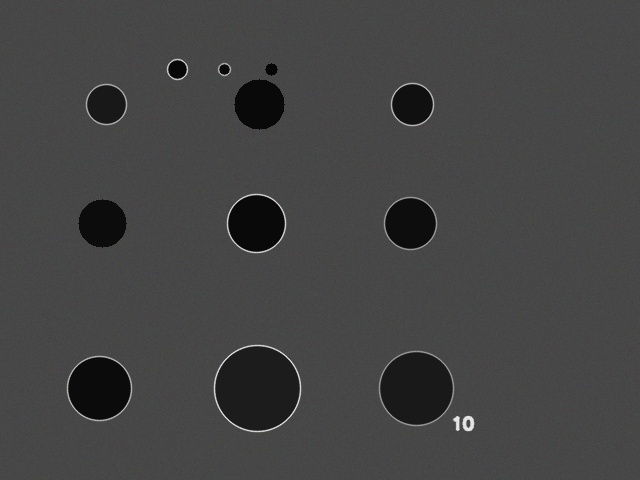hole: (214, 345, 300, 431), (379, 351, 453, 425), (67, 356, 131, 420), (227, 194, 285, 252), (384, 197, 436, 249), (234, 79, 284, 129), (78, 199, 126, 247), (391, 83, 433, 125), (86, 84, 126, 124), (167, 59, 187, 79), (218, 63, 230, 75), (265, 63, 277, 75)
